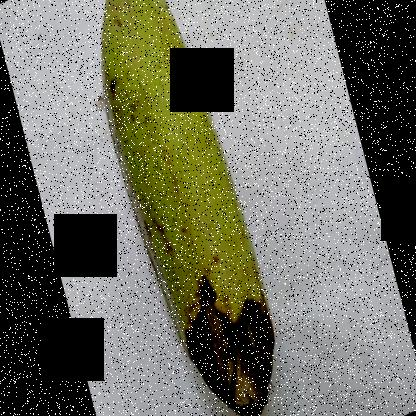rotten: (163, 253, 299, 415)
